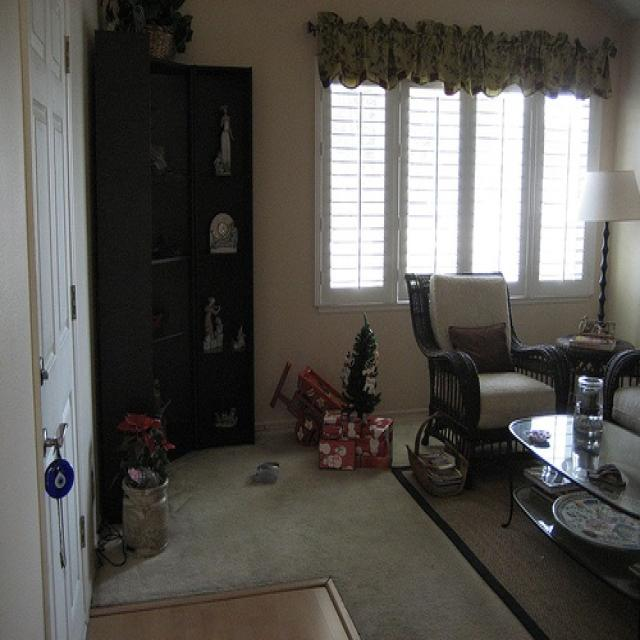chair: (403, 271, 572, 490)
pottedplant: (105, 410, 171, 558)
